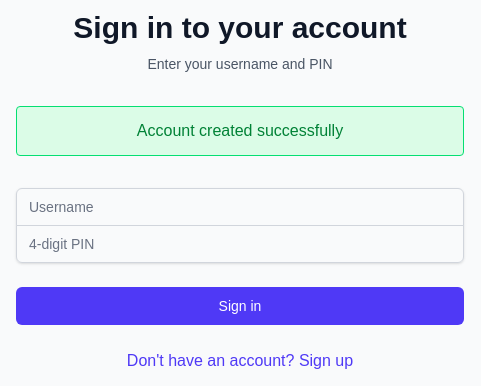
Test: SignInPage › should disable form during submission
In the field with placeholder "Username": (240, 206) top-left (16, 188), bottom-right (464, 226), type "testuser"
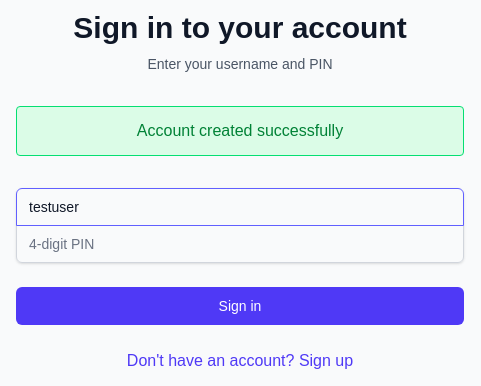
In the password field with placeholder "4-digit PIN": (240, 244) top-left (16, 224), bottom-right (464, 262), type "1234"
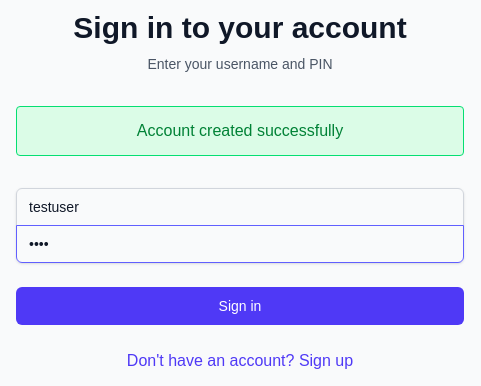
Click the button "Sign in": (240, 306) top-left (16, 286), bottom-right (464, 324)
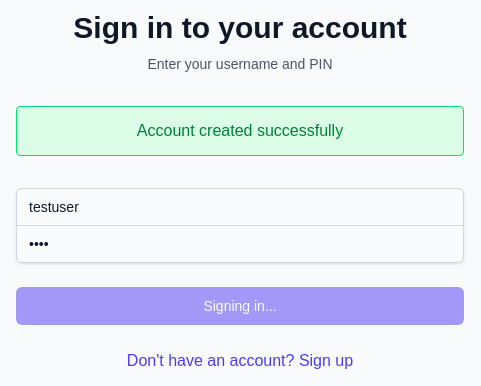
expect the field with placeholder "Username" is disabled: met, box top-left (16, 188), bottom-right (464, 226)
expect the button "Signing in..." is disabled: met, box top-left (16, 286), bottom-right (464, 324)
